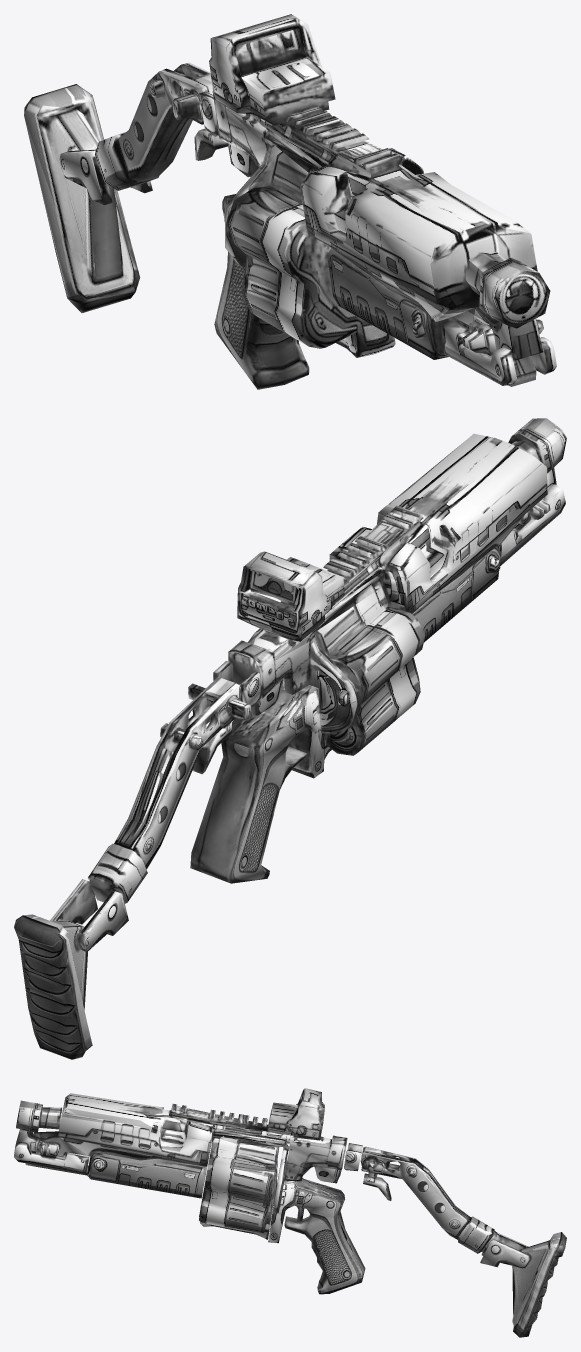
3 views of the same model, one above another, from view 1: azimuth 30°, elevation 25°; view 2: azimuth 150°, elevation 25°; view 3: azimuth 270°, elevation 25° (orthographic). The views are drawn at different scales.
Visible parts, largest first — view 1: gun; view 2: gun; view 3: gun.
Boxes of the visible parts, <box> form: gun: <box>24,14,556,389</box>; gun: <box>14,418,566,1059</box>; gun: <box>14,1088,566,1337</box>.
Bounding box in the file's own units: 0.4443 × 1.18 × 2.6.
Materials: 3 (3 with a texture image).
